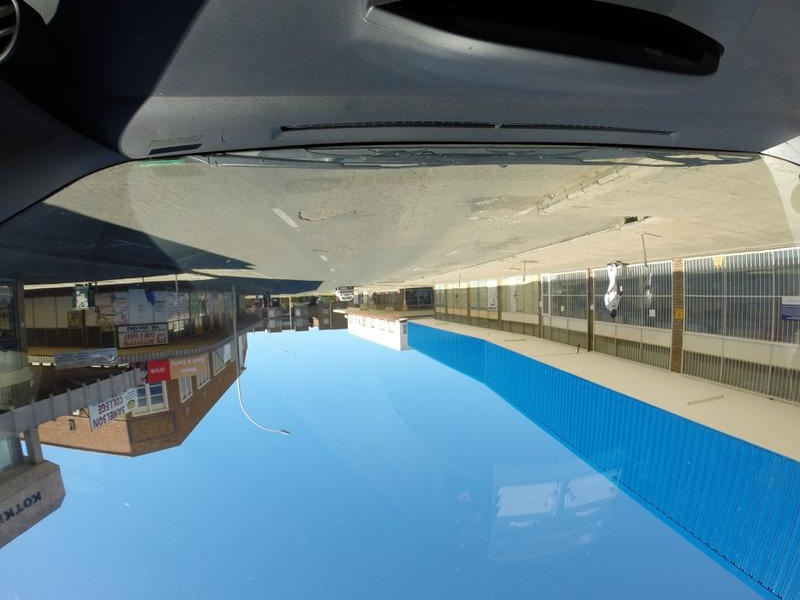pothole: (292, 199, 361, 228), (307, 240, 357, 257)
